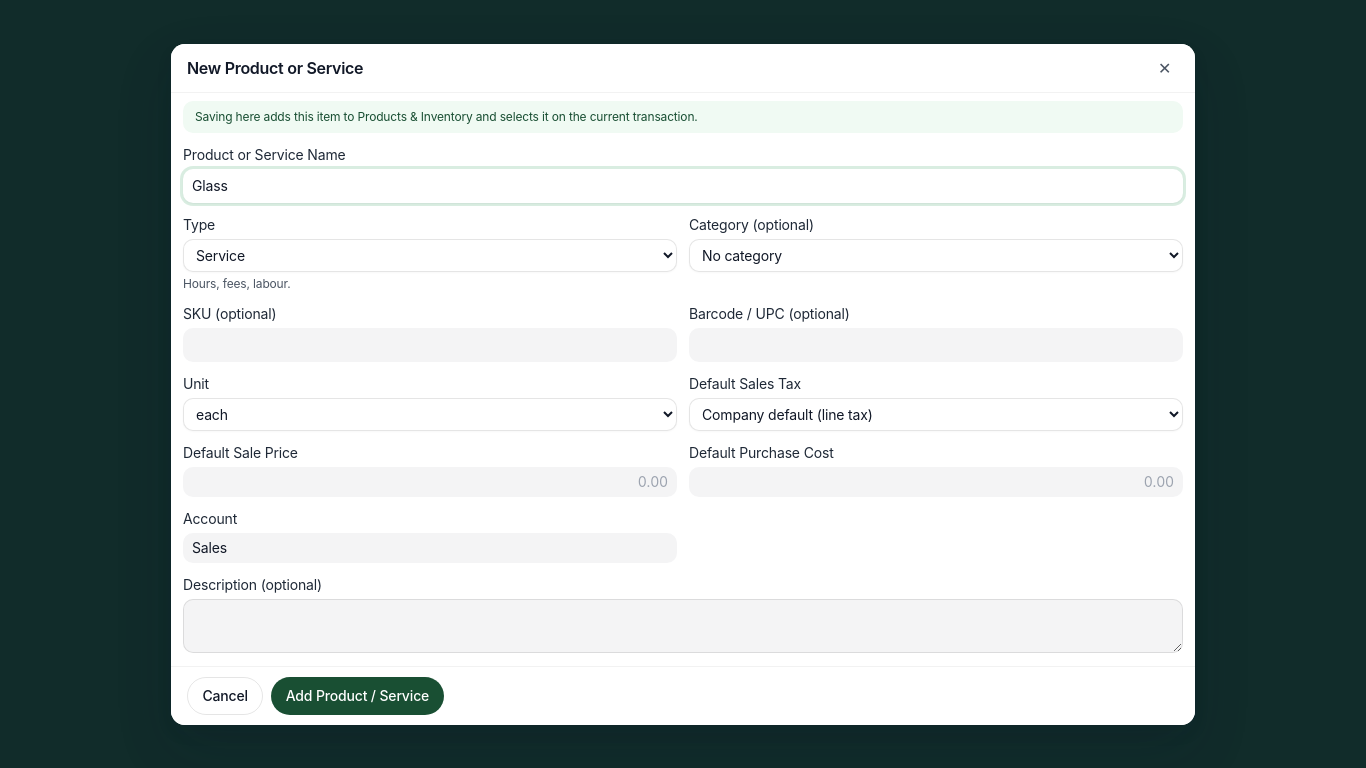
NewProductModal account picker › offers every Chart of Accounts type instead of revenue accounts only
This screenshot has width=1366, height=768.
Click the field with placeholder "Select account…": (430, 548) [183,532,677,562]
(page scrolled)
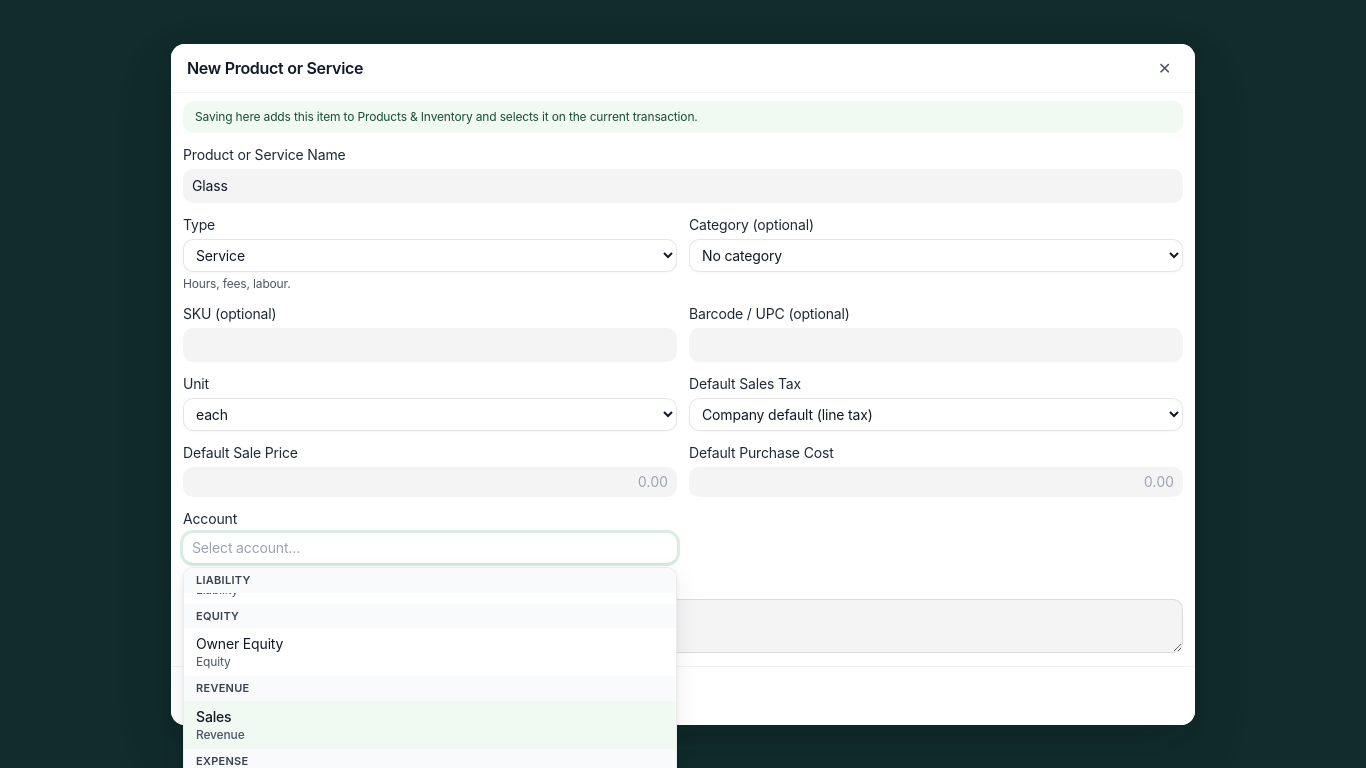
Expected: the button "Credit Card Liability" is shown, [184,566,676,604]
Expected: the button "Owner Equity Equity" is shown, [184,628,676,676]
Expected: the button "Sales Revenue" is shown, [184,700,676,748]
